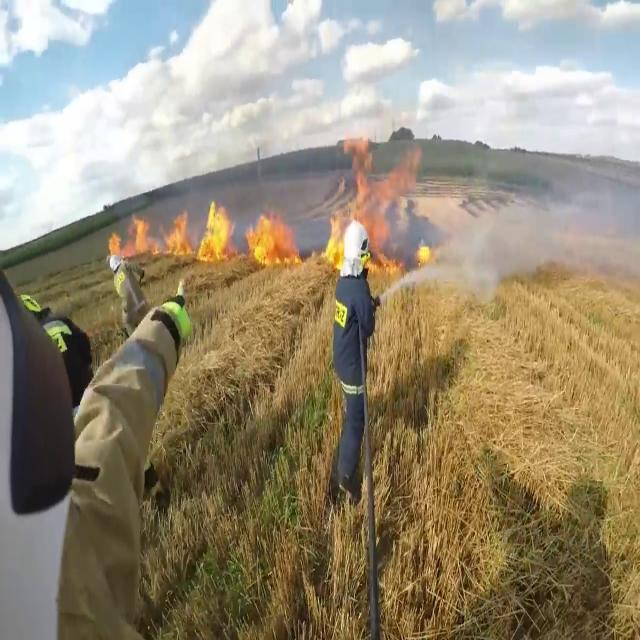Fire: (121, 192, 303, 268), (321, 128, 408, 276), (414, 236, 436, 266)
Smoke: (440, 101, 640, 307)
